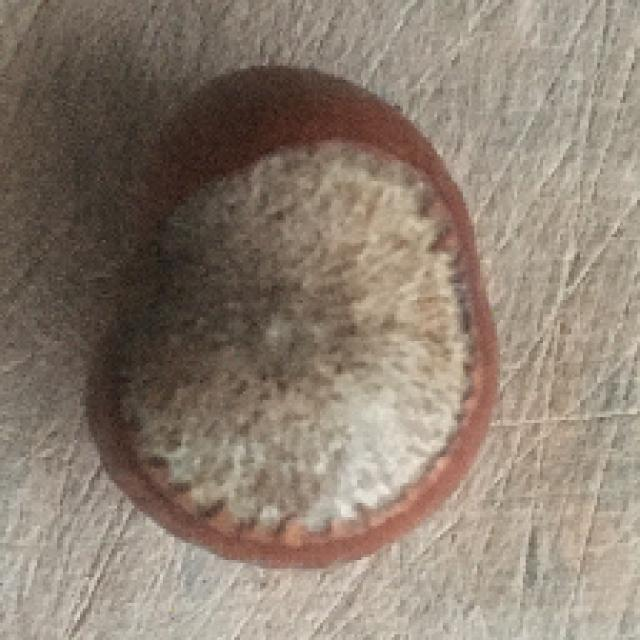QualityHazelnut: (85, 62, 503, 568)
